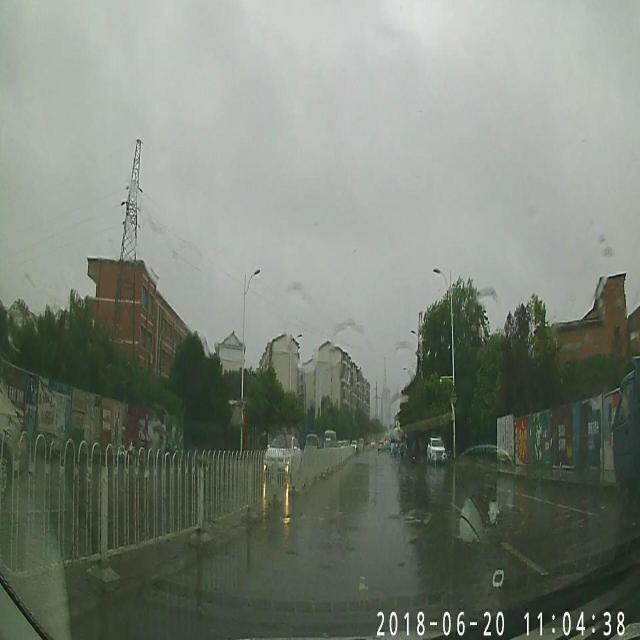car: (264, 432, 302, 480), (426, 436, 449, 464), (304, 433, 320, 461)
